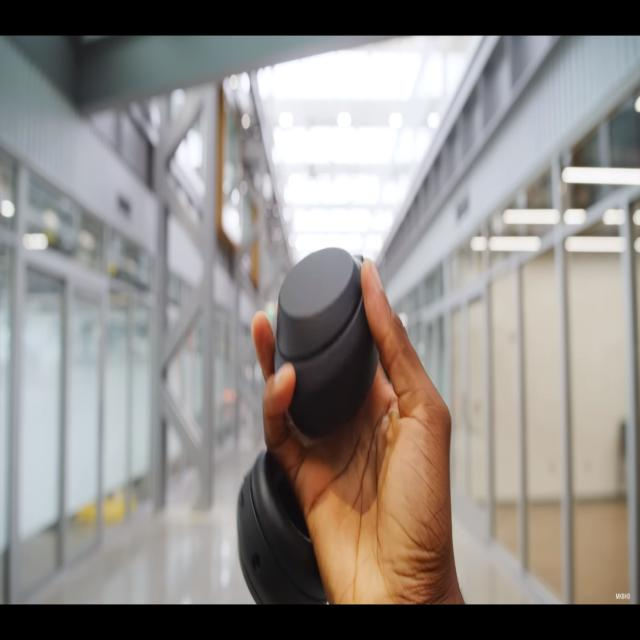Headphone: (235, 245, 379, 607)
